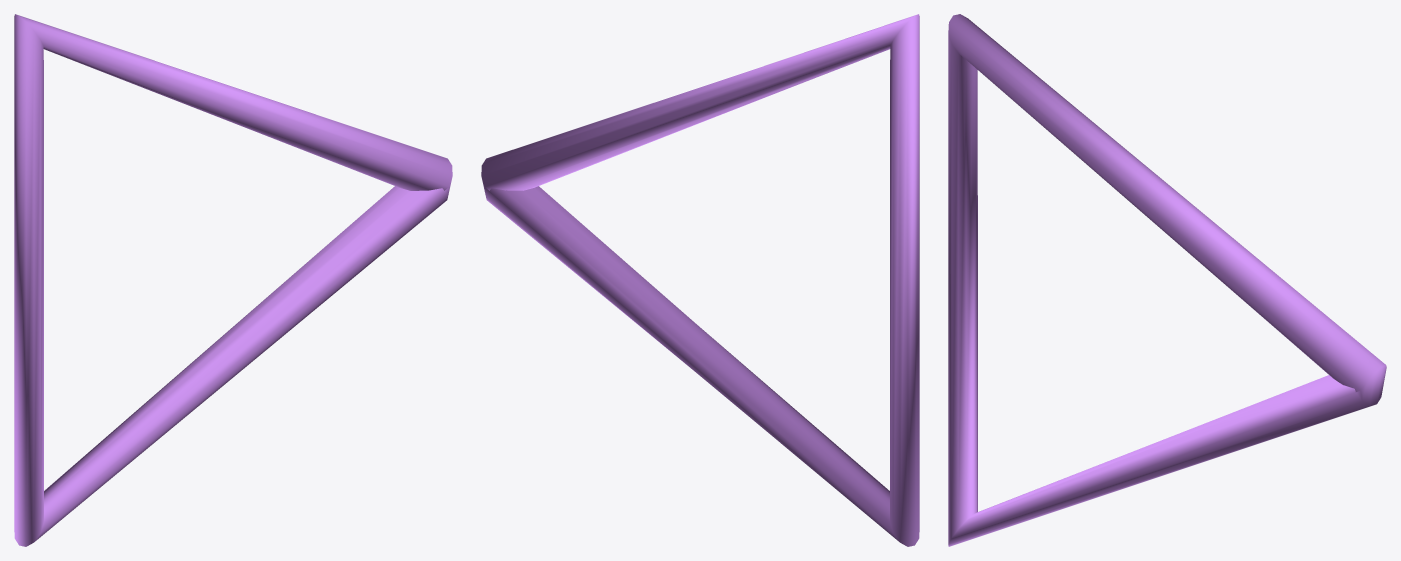
The model's file is triangle-mQUPUHmg.glb.
The picture shows the model from 3 angles, left to right: view 1: azimuth 30°, elevation 25°; view 2: azimuth 150°, elevation 25°; view 3: azimuth 330°, elevation 25°; orthographic projection.
Parts seen in each view (by area): view 1: R3D_triangle_Body_0; view 2: R3D_triangle_Body_0; view 3: R3D_triangle_Body_0.
Boxes of the visible parts, left/top/right/bottom form: R3D_triangle_Body_0: left=14, top=14, right=452, bottom=546; R3D_triangle_Body_0: left=481, top=14, right=919, bottom=546; R3D_triangle_Body_0: left=948, top=14, right=1386, bottom=546.
Bounding box in the file's own units: 1.97 × 2.32 × 0.18.
